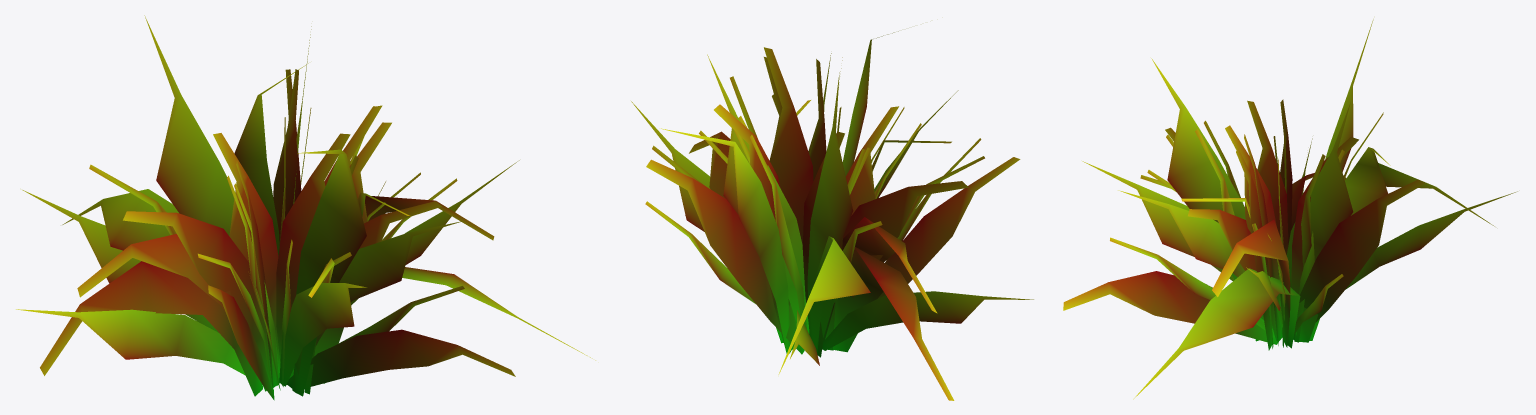
The model's file is tmjhcayia_Var5_LOD1.fbx.
3 views of the same model, side by side, from view 1: azimuth 30°, elevation 25°; view 2: azimuth 150°, elevation 25°; view 3: azimuth 270°, elevation 25° (orthographic). The views are drawn at different scales.
Parts seen in each view (by area): view 1: Var5_LOD1; view 2: Var5_LOD1; view 3: Var5_LOD1.
Boxes of the visible parts, x1=… form: Var5_LOD1: x1=16, y1=15, x2=595, y2=400; Var5_LOD1: x1=631, y1=31, x2=1033, y2=400; Var5_LOD1: x1=1063, y1=19, x2=1517, y2=399.
Size of the model in its own units: 13.83 by 9.86 by 13.92.
